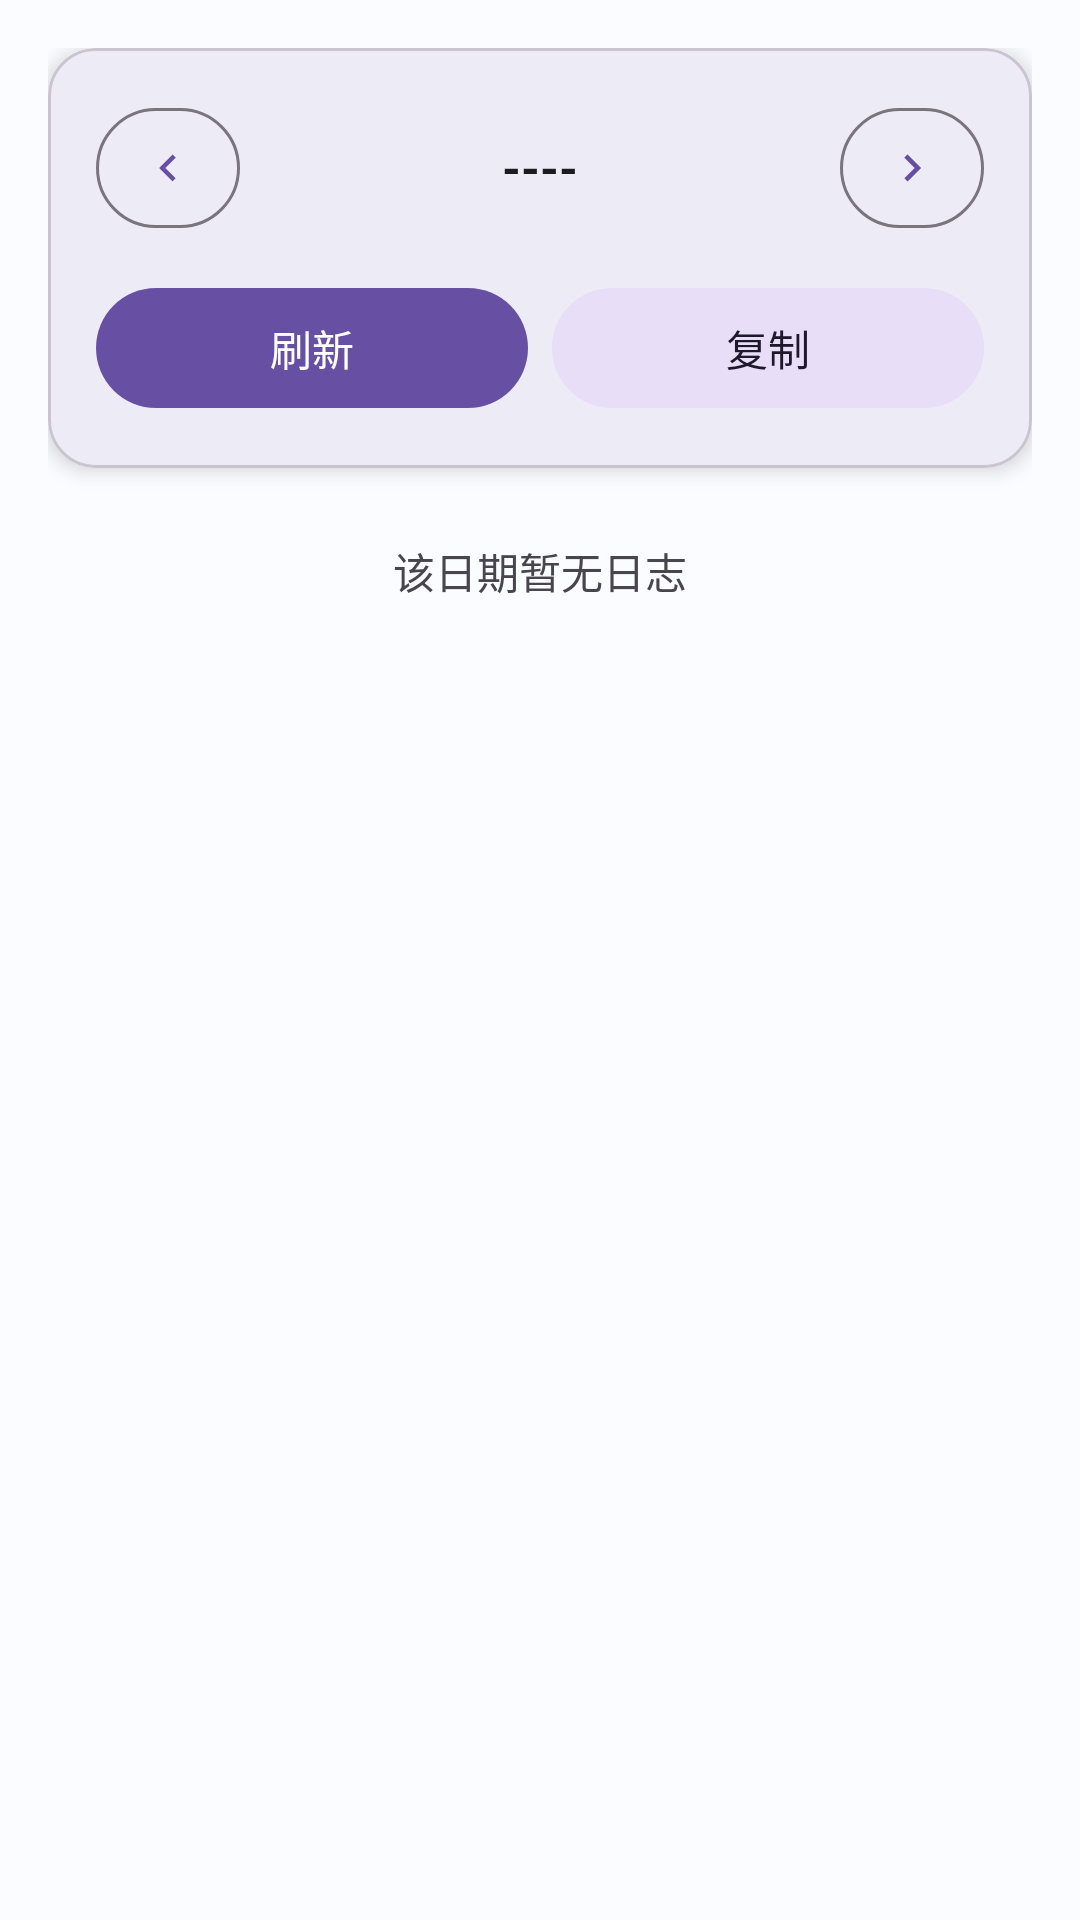

Locate icon controls on the screen. Image size 1080 x 1920, boxes as region(x1, y1, x2, y2).
上一天: region(96, 108, 240, 228)
下一天: region(840, 108, 984, 228)
